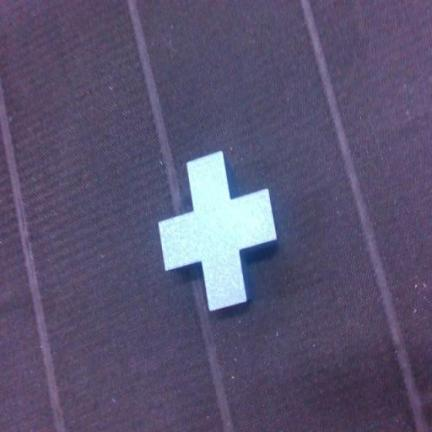cross: (159, 152, 276, 310)
